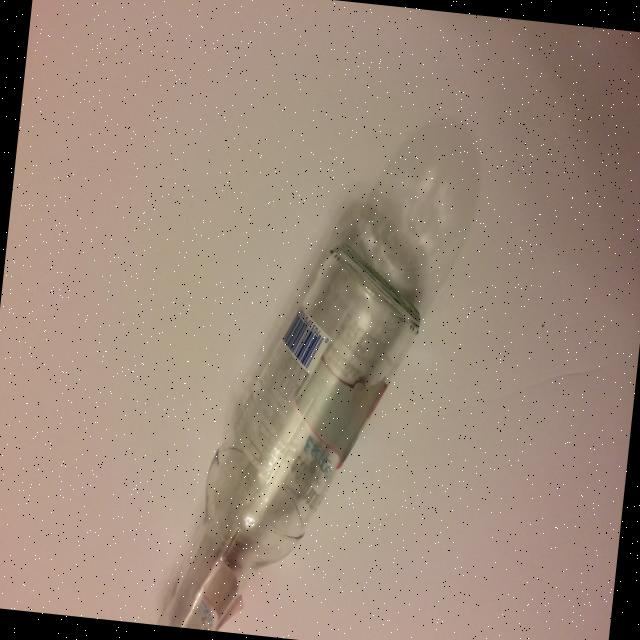glass: (153, 88, 488, 640)
